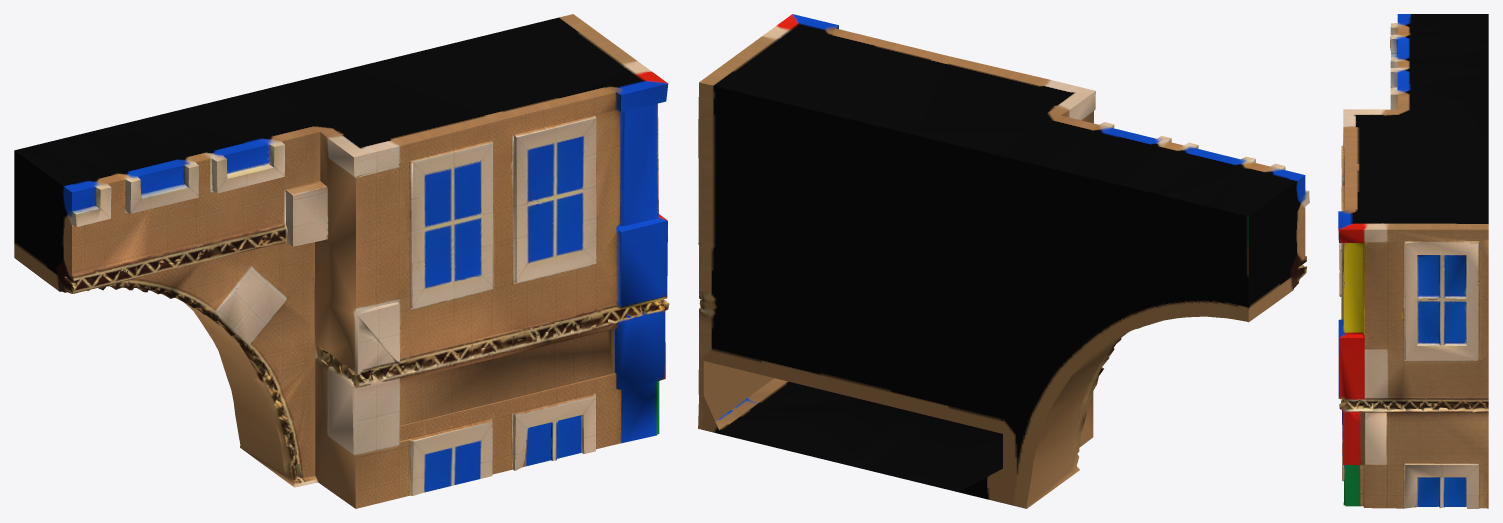
The model's file is 6-upper-walls-front-right.fbx.
The picture shows the model from 3 angles, left to right: view 1: azimuth 30°, elevation 25°; view 2: azimuth 150°, elevation 25°; view 3: azimuth 270°, elevation 25°; orthographic projection. The views are drawn at different scales.
Parts seen in each view (by area): view 1: upper-walls-front-right; view 2: upper-walls-front-right; view 3: upper-walls-front-right.
Boxes of the visible parts, left/top/right/bottom form: upper-walls-front-right: left=14, top=14, right=669, bottom=508; upper-walls-front-right: left=698, top=14, right=1309, bottom=508; upper-walls-front-right: left=1338, top=14, right=1488, bottom=508.
Size of the model in its own units: 10487 by 6289 by 3077.
Materials: 1 (1 with a texture image).
